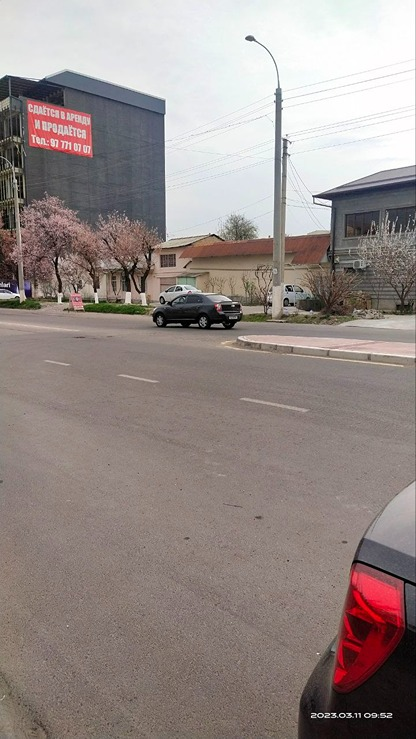car: (149, 296, 244, 331), (268, 276, 309, 309), (158, 284, 199, 296), (0, 289, 29, 303)
tree: (20, 195, 79, 300), (360, 212, 416, 317), (100, 212, 167, 299), (69, 223, 113, 300)
